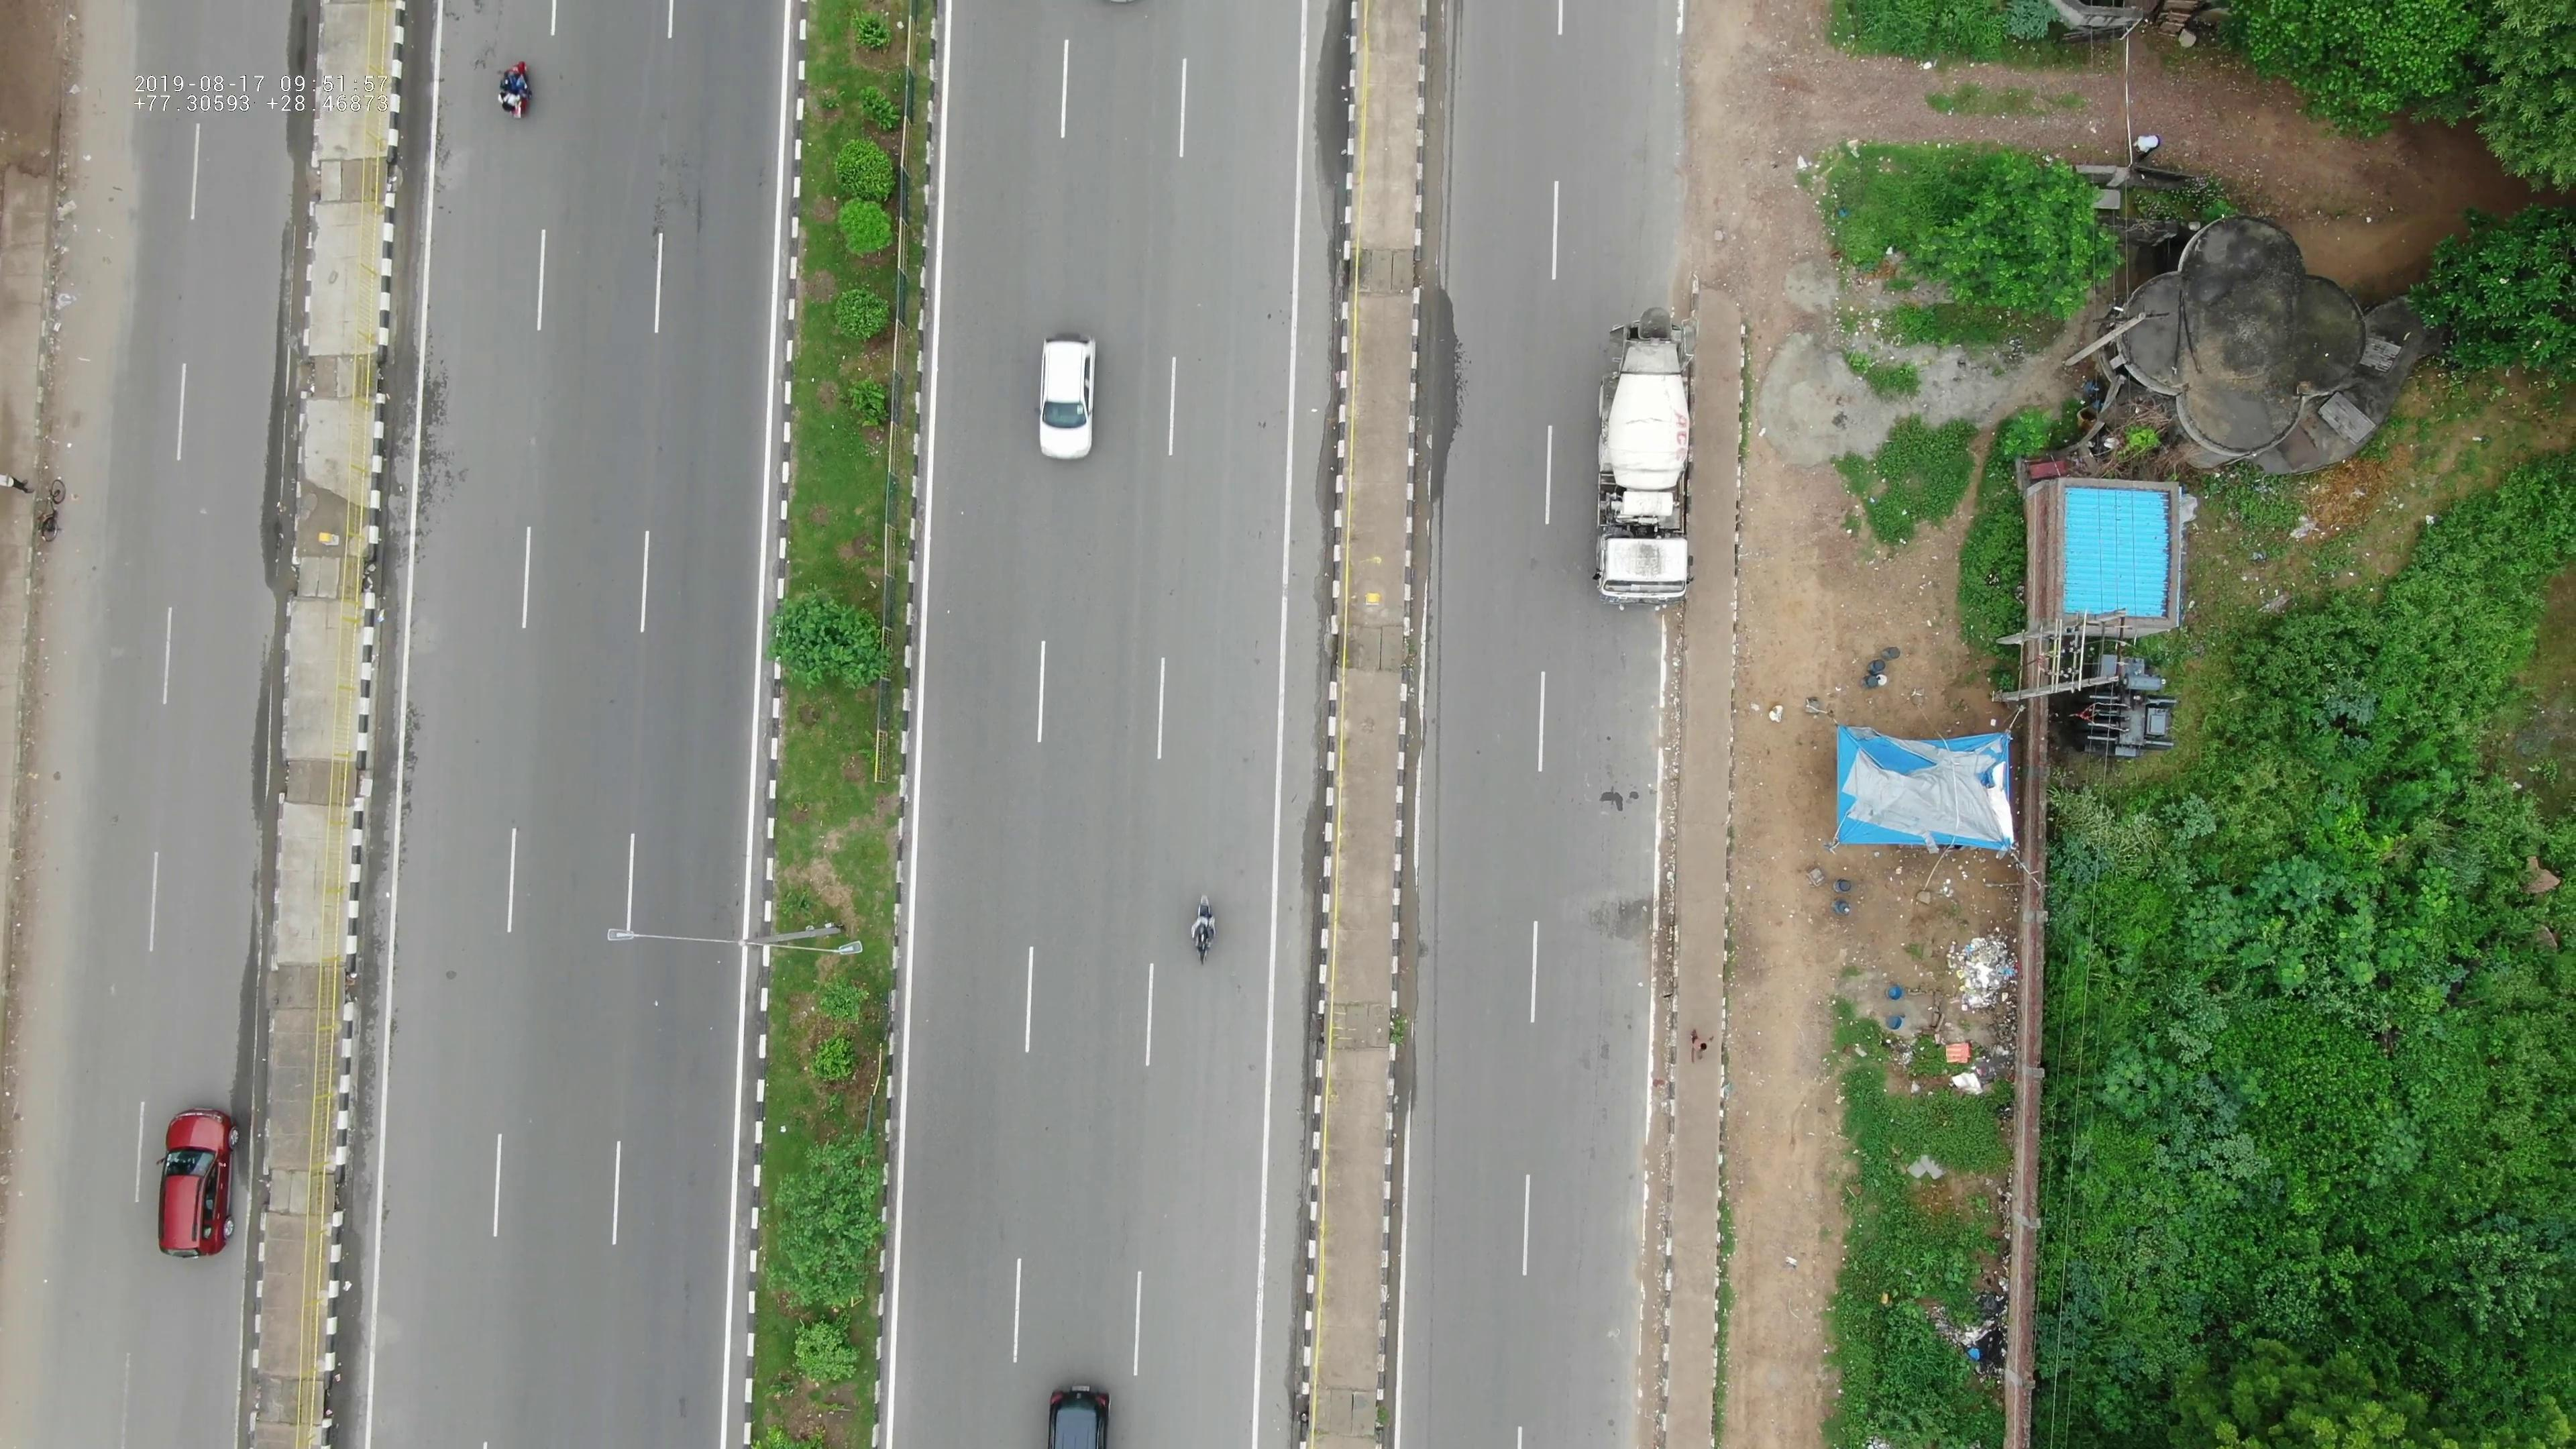Alligator_cracks: (1576, 885, 1658, 957)
